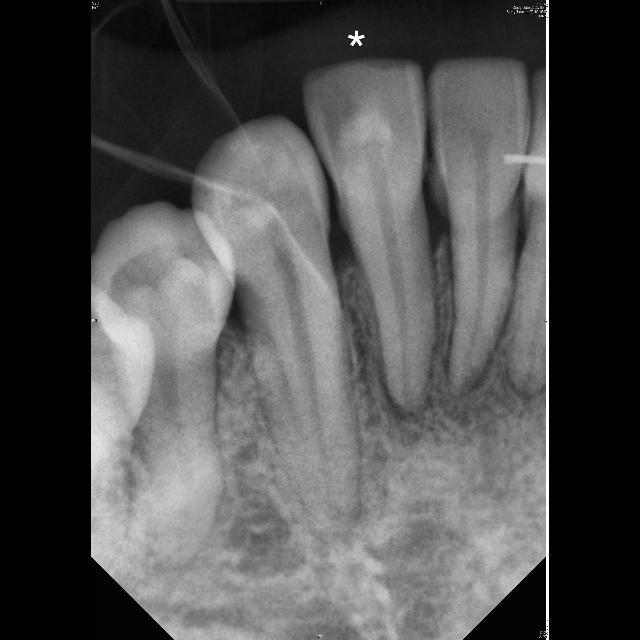test-segment: (303, 58, 437, 410)
